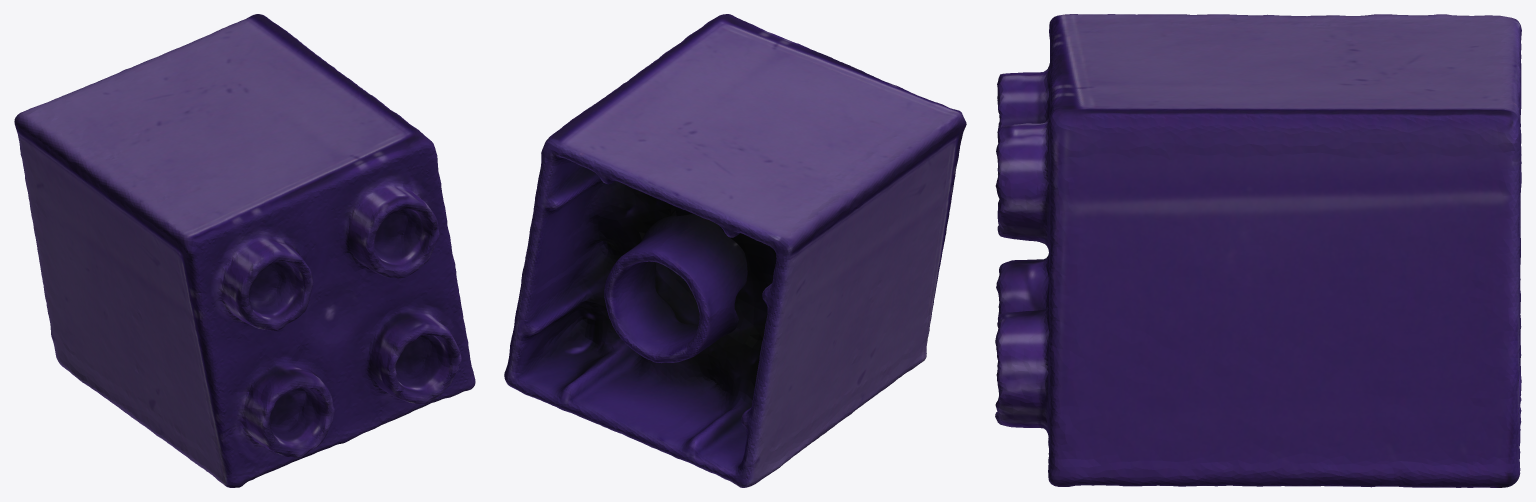
3 views of the same model, side by side, from view 1: azimuth 30°, elevation 25°; view 2: azimuth 150°, elevation 25°; view 3: azimuth 270°, elevation 25° (orthographic). The views are drawn at different scales.
Visible parts, largest first — view 1: node; view 2: node; view 3: node.
Part boxes in pixels (x1=…): node: x1=14, y1=14, x2=475, y2=487; node: x1=504, y1=14, x2=966, y2=487; node: x1=995, y1=14, x2=1521, y2=487.
Size of the model in its own units: 0.0369 by 0.0367 by 0.0433.
Materials: 1 (1 with a texture image).
